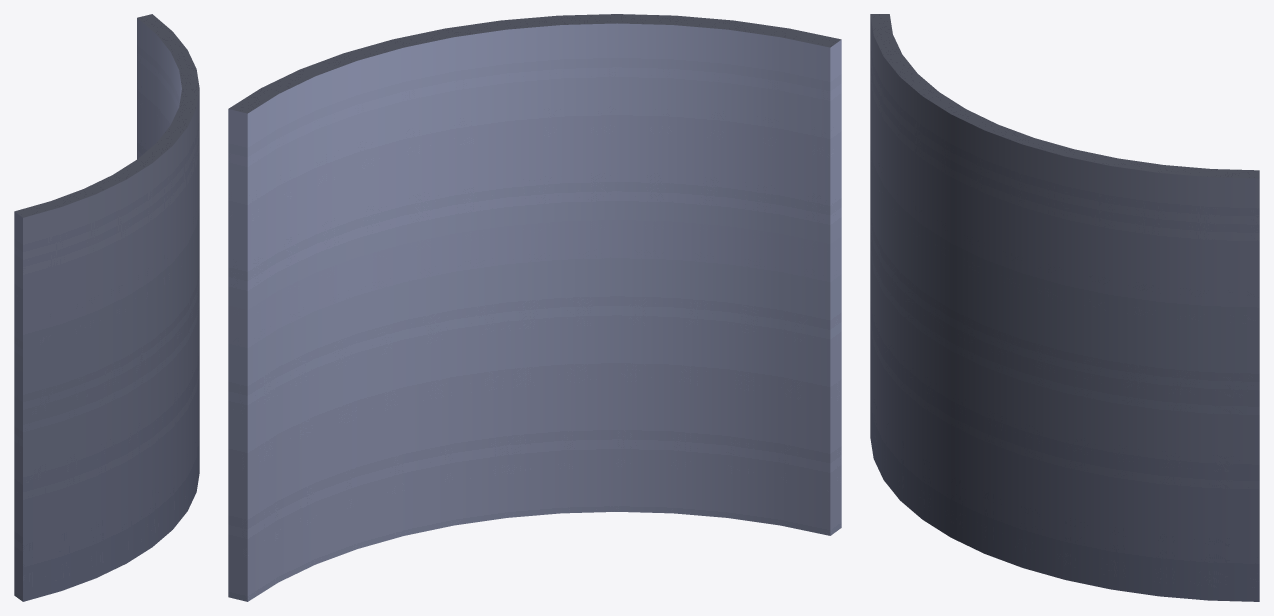
The model's file is wall-corner-round.glb.
3 views of the same model, side by side, from view 1: azimuth 30°, elevation 25°; view 2: azimuth 150°, elevation 25°; view 3: azimuth 270°, elevation 25° (orthographic). The views are drawn at different scales.
Parts seen in each view (by area): view 1: wall-corner-round; view 2: wall-corner-round; view 3: wall-corner-round.
Boxes of the visible parts, box(x1,y1,x2,y2) form: wall-corner-round: box(14, 14, 199, 601); wall-corner-round: box(228, 14, 841, 601); wall-corner-round: box(870, 14, 1259, 601).
Size of the model in its own units: 2 by 2.4 by 2.
Materials: 1 (1 with a texture image).
